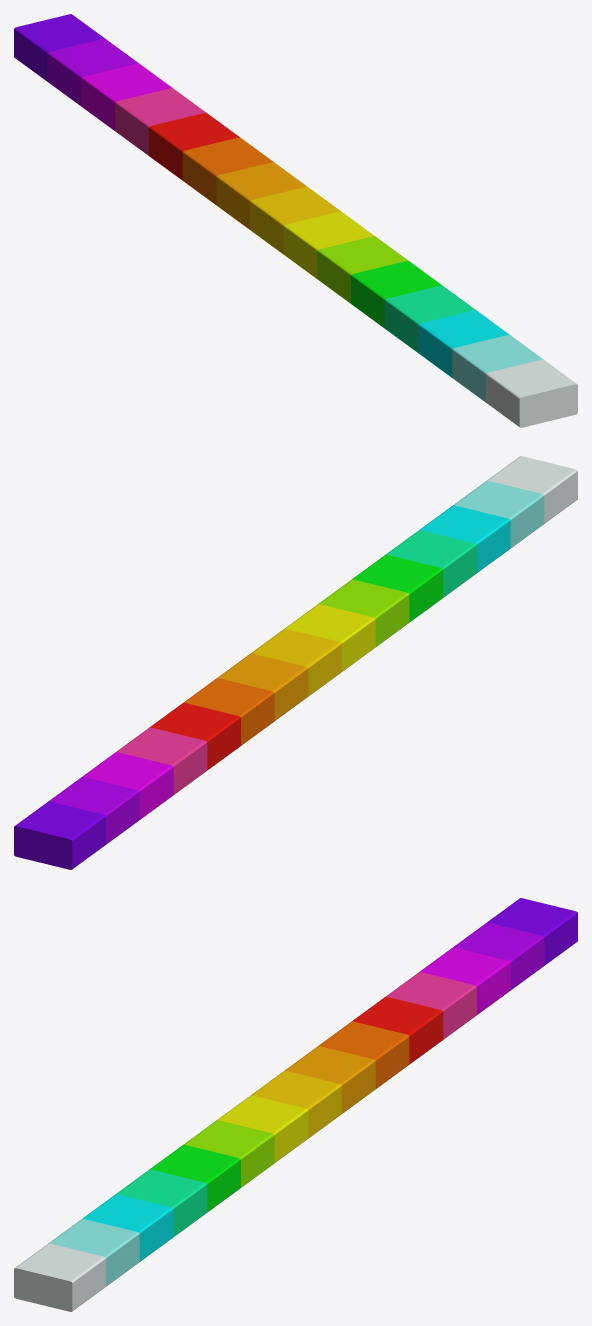
3 views of the same model, one above another, from view 1: azimuth 30°, elevation 25°; view 2: azimuth 150°, elevation 25°; view 3: azimuth 330°, elevation 25° (orthographic).
Parts seen in each view (by area): view 1: Cube.014; view 2: Cube.014; view 3: Cube.014.
Boxes of the visible parts, x1,y1,x2,y2 form: Cube.014: [14, 14, 577, 427]; Cube.014: [14, 456, 577, 869]; Cube.014: [14, 898, 577, 1311].
Size of the model in its own units: 2 by 1 by 30.
